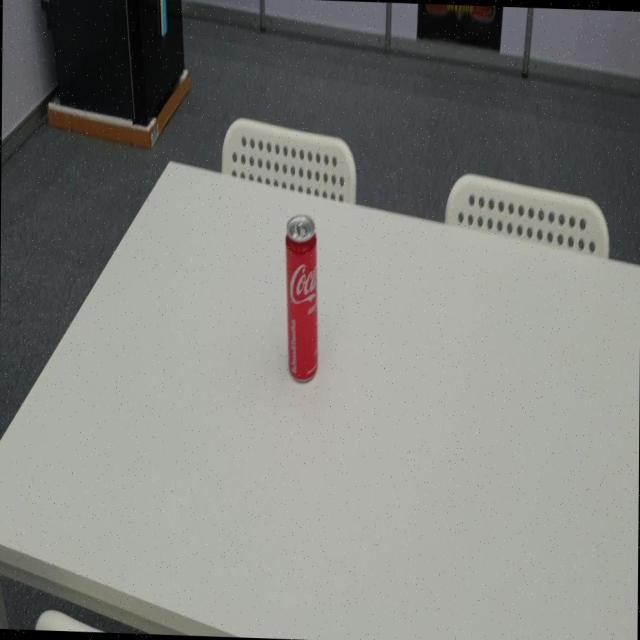coca-cola: (283, 212, 319, 388)
